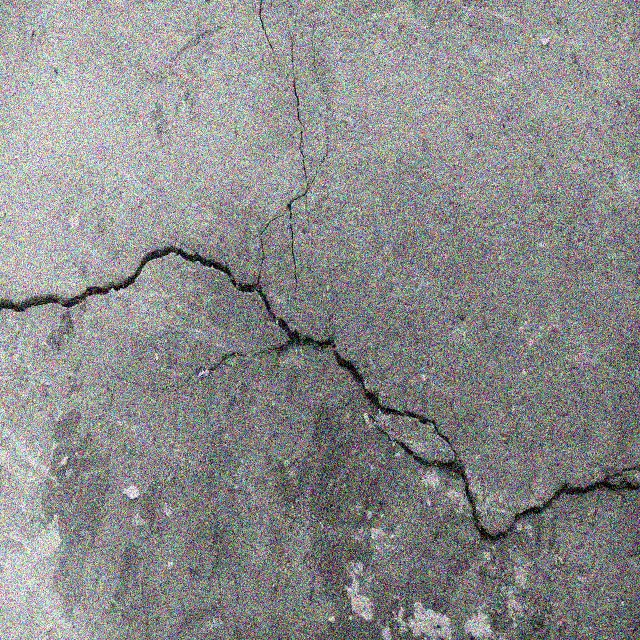SurfaceCrack: (1, 221, 640, 575)
